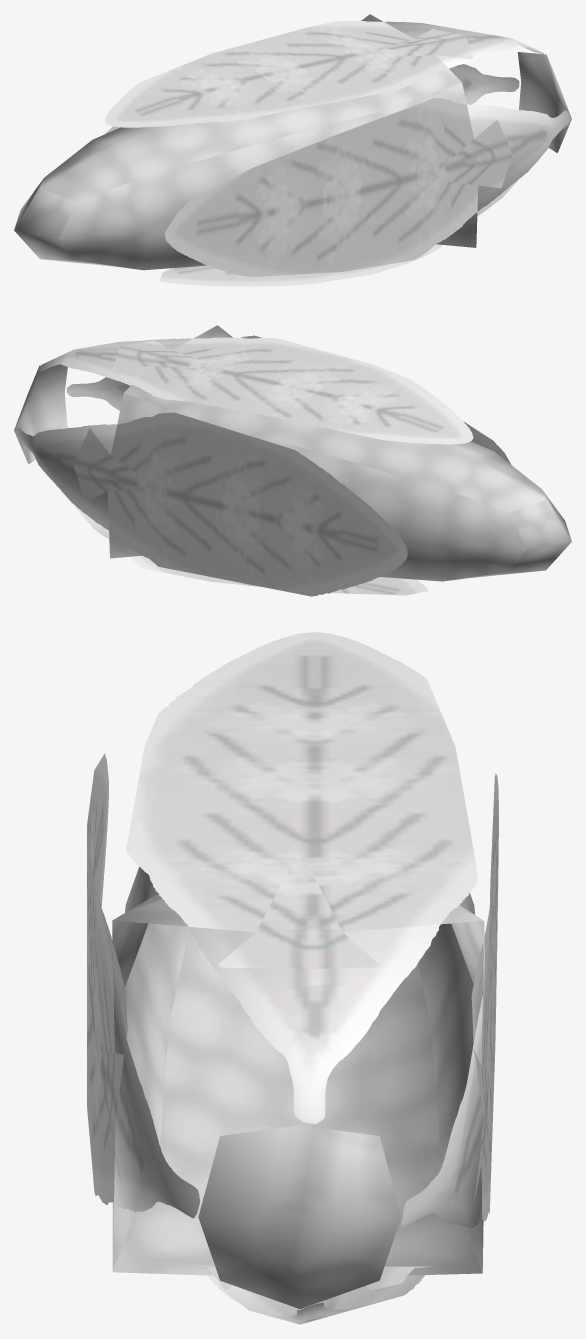
Rendered from Corn_Drop.fbx.
The picture shows the model from 3 angles, top to bottom: view 1: azimuth 30°, elevation 25°; view 2: azimuth 150°, elevation 25°; view 3: azimuth 270°, elevation 25°; orthographic projection. The views are drawn at different scales.
Visible parts, largest first — view 1: Corn; view 2: Corn; view 3: Corn.
Part boxes in pixels (x1,y1,x2,y2): Corn: (14, 14, 571, 286); Corn: (14, 325, 571, 596); Corn: (87, 632, 498, 1324).
Size of the model in its own units: 0.9773 by 0.3169 by 0.3207.
